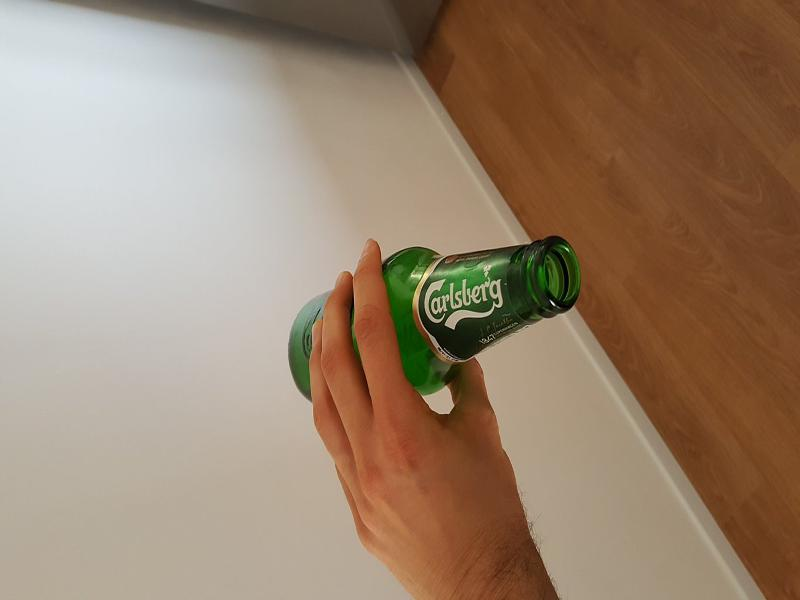Beer: (289, 237, 581, 395)
